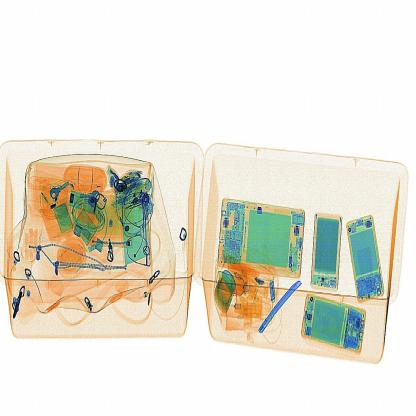pliers: (256, 266, 304, 344)
